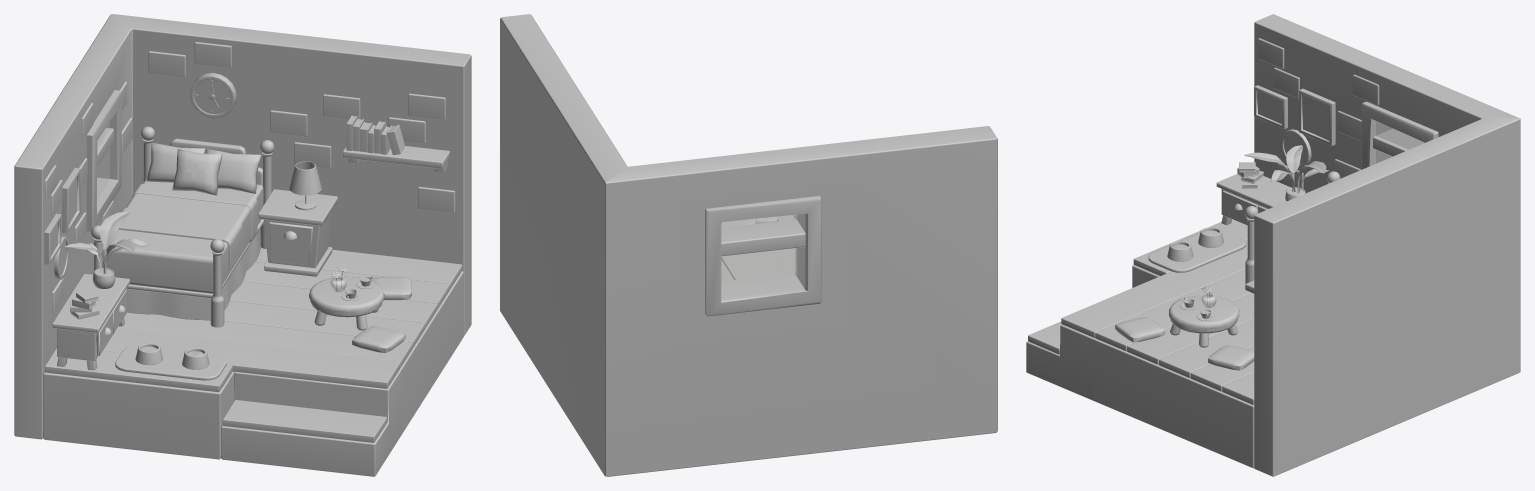
Rendered from Bedroom_19.fbx.
The picture shows the model from 3 angles, left to right: view 1: azimuth 30°, elevation 25°; view 2: azimuth 150°, elevation 25°; view 3: azimuth 270°, elevation 25°; orthographic projection. The views are drawn at different scales.
Parts seen in each view (by area): view 1: Room_19_Wall_1, Room_19_Floor_1, Room_19_Bed_1, Room_19_Cabinet_1, Room_19_Cabinet_2, Room_19_Window_1, Room_19_Table_1, Room_19_Carpet_1, Room_19_Pillow_2, Room_19_Books_2, Room_19_Plant_1, Room_19_Clock_1 (+12 smaller); view 2: Room_19_Wall_1, Room_19_Window_1, Room_19_Bed_1; view 3: Room_19_Wall_1, Room_19_Floor_1, Room_19_Window_1, Room_19_Table_1, Room_19_Cabinet_2, Room_19_Carpet_1, Room_19_Painting_2, Room_19_Plant_1, Room_19_Painting_3, Room_19_Pillow_5, Room_19_Pillow_4, Room_19_Bed_1 (+2 smaller).
Boxes of the visible parts, x1,y1,x2,y2 form: Room_19_Wall_1: [14, 14, 471, 439]; Room_19_Floor_1: [43, 247, 463, 476]; Room_19_Bed_1: [91, 126, 274, 327]; Room_19_Cabinet_1: [258, 189, 337, 276]; Room_19_Cabinet_2: [52, 274, 129, 370]; Room_19_Window_1: [86, 90, 121, 231]; Room_19_Table_1: [309, 276, 384, 330]; Room_19_Carpet_1: [115, 346, 226, 380]; Room_19_Pillow_2: [172, 149, 222, 195]; Room_19_Books_2: [346, 115, 405, 154]; Room_19_Plant_1: [65, 212, 153, 288]; Room_19_Clock_1: [190, 73, 236, 118]; Room_19_Wall_1: [500, 14, 997, 476]; Room_19_Window_1: [705, 196, 821, 316]; Room_19_Bed_1: [721, 248, 795, 281]; Room_19_Wall_1: [1254, 14, 1520, 476]; Room_19_Floor_1: [1026, 219, 1254, 468]; Room_19_Window_1: [1361, 101, 1438, 169]; Room_19_Table_1: [1169, 295, 1239, 347]; Room_19_Cabinet_2: [1216, 174, 1291, 225]; Room_19_Carpet_1: [1148, 230, 1246, 272]; Room_19_Painting_2: [1299, 88, 1335, 146]; Room_19_Plant_1: [1244, 145, 1328, 201]; Room_19_Painting_3: [1254, 85, 1287, 129]; Room_19_Pillow_5: [1115, 317, 1165, 342]; Room_19_Pillow_4: [1208, 345, 1254, 370]; Room_19_Bed_1: [1244, 171, 1340, 283].
Size of the model in its own units: 704 by 400 by 704.
